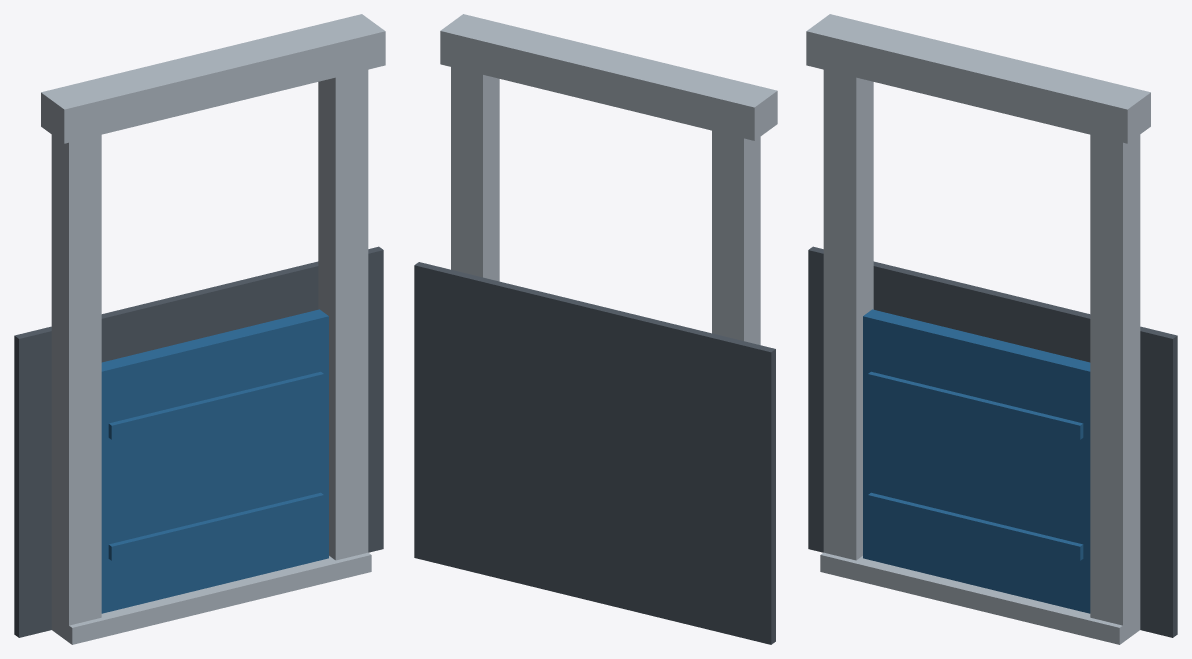
The model's file is gate-fixed.glb.
3 renders of one model, left to right at view 1: azimuth 30°, elevation 25°; view 2: azimuth 150°, elevation 25°; view 3: azimuth 330°, elevation 25°, orthographic. The views are drawn at different scales.
Parts seen in each view (by area): view 1: GateFixedFrame, GateFixedPlateMesh; view 2: GateFixedFrame; view 3: GateFixedFrame, GateFixedPlateMesh.
Boxes of the visible parts, bbox=[...] form: GateFixedFrame: bbox=[14, 14, 385, 644]; GateFixedPlateMesh: bbox=[101, 309, 328, 613]; GateFixedFrame: bbox=[414, 14, 777, 644]; GateFixedFrame: bbox=[806, 14, 1177, 644]; GateFixedPlateMesh: bbox=[863, 309, 1090, 613].
Bounding box in the file's own units: 1.34 × 1.9 × 0.18.
Materials: 1 (1 with a texture image).
